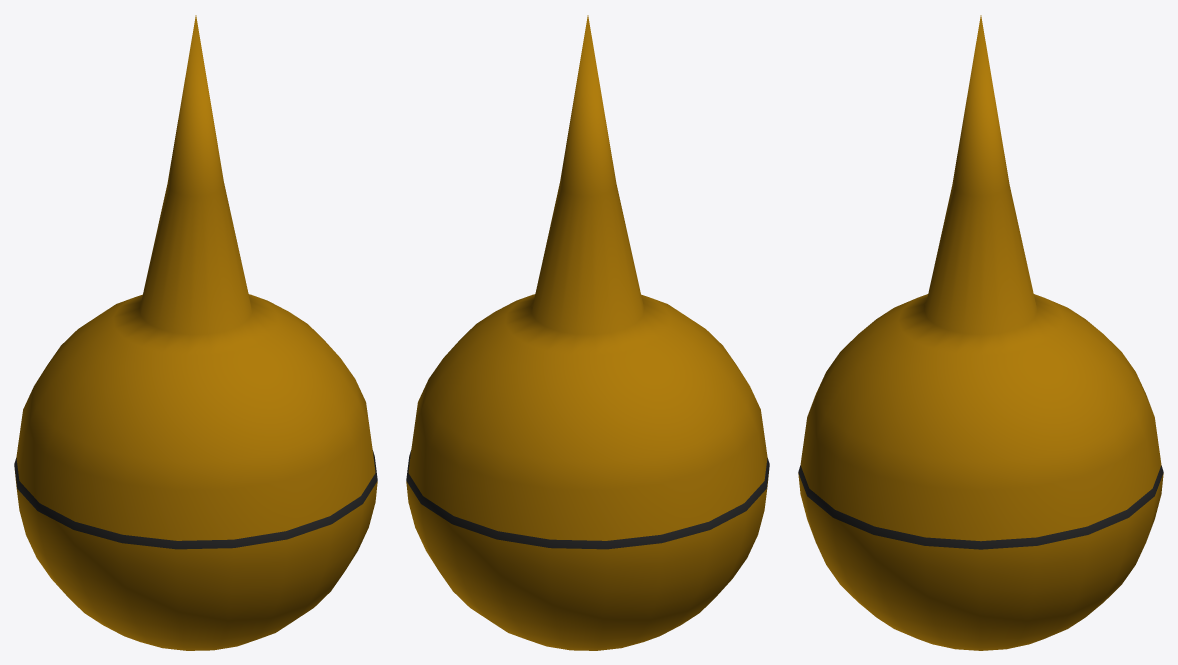
Rendered from Uki.fbx.
The picture shows the model from 3 angles, left to right: view 1: azimuth 30°, elevation 25°; view 2: azimuth 150°, elevation 25°; view 3: azimuth 270°, elevation 25°; orthographic projection.
Visible parts, largest first — view 1: pSphere1; view 2: pSphere1; view 3: pSphere1.
Part boxes in pixels (x1,y1,x2,y2): pSphere1: (14,15,377,650); pSphere1: (406,15,769,650); pSphere1: (798,15,1163,650).
Size of the model in its own units: 3.27 by 6.12 by 3.27.
